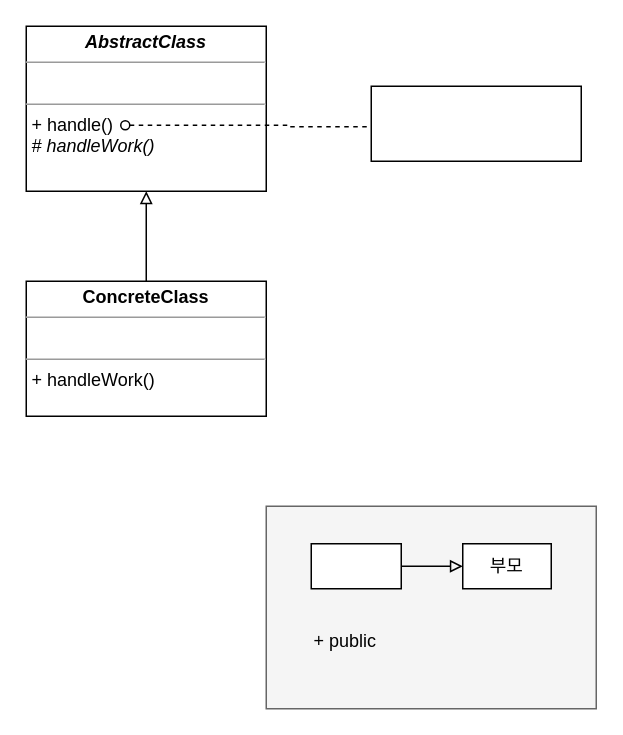
Image size: 623x735. Some labels were removed from this diagram. Here are the shapes that lost their labels. From the top down, the centre of each, then its label:
At (x=475, y=123): "handle()".
At (x=355, y=565): "자식".
